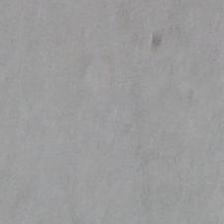Non_Crack: (10, 16, 224, 224)
